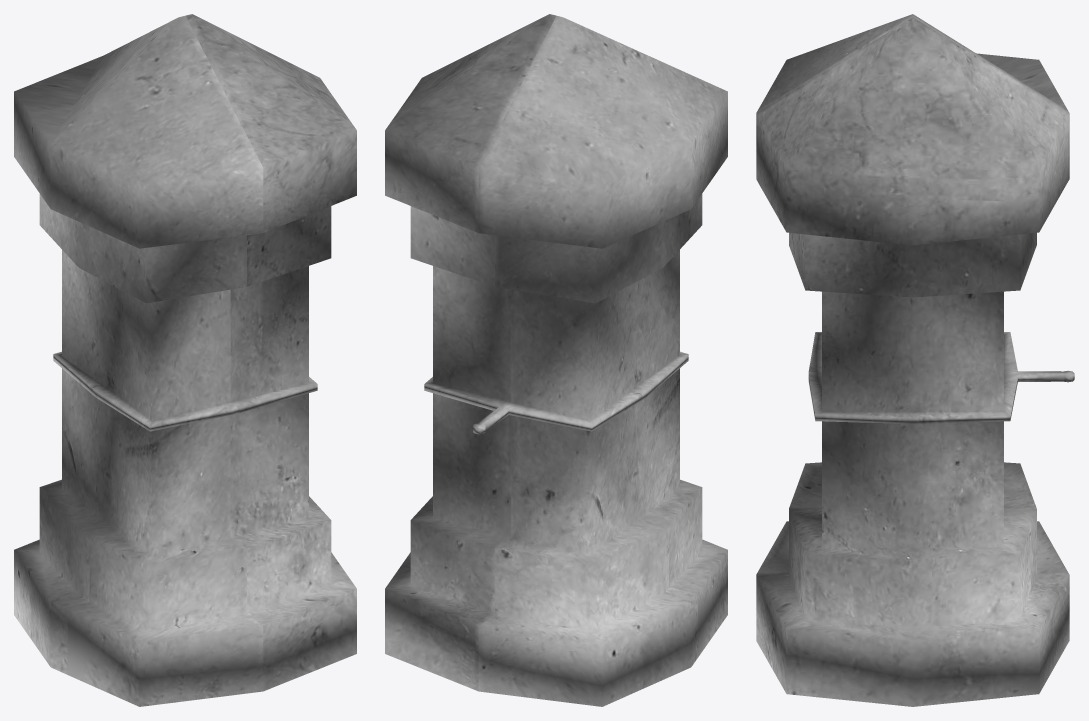
Rendered from Left Wall.fbx.
3 views of the same model, side by side, from view 1: azimuth 30°, elevation 25°; view 2: azimuth 150°, elevation 25°; view 3: azimuth 270°, elevation 25° (orthographic).
Parts seen in each view (by area): view 1: Left_Gate_Wall; view 2: Left_Gate_Wall; view 3: Left_Gate_Wall.
Part boxes in pixels (left/top/right/bottom): Left_Gate_Wall: left=14, top=14, right=356, bottom=706; Left_Gate_Wall: left=385, top=14, right=727, bottom=706; Left_Gate_Wall: left=756, top=14, right=1074, bottom=706.
Bounding box in the file's own units: 11.85 × 26 × 12.04.
